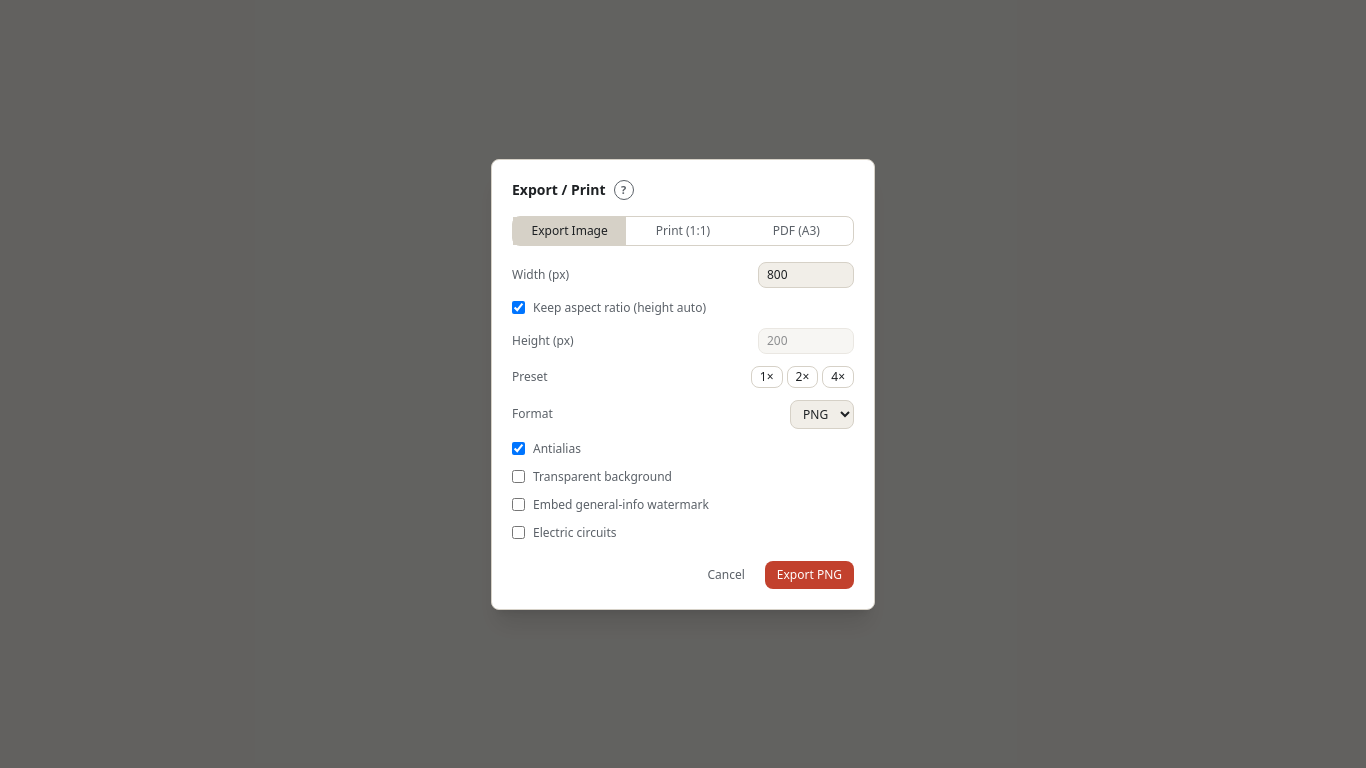
Test case: ExportImageDialog › defaults to 2x the scene with the height tracking the width
The width and height of the screenshot is (1366, 768).
Expected: the number field labelled "Height (px)" is disabled, [758,328,854,354]
Replace the text in the number field labelled "Width (px)" with "1000" at (806, 274), box [758,262,854,288]
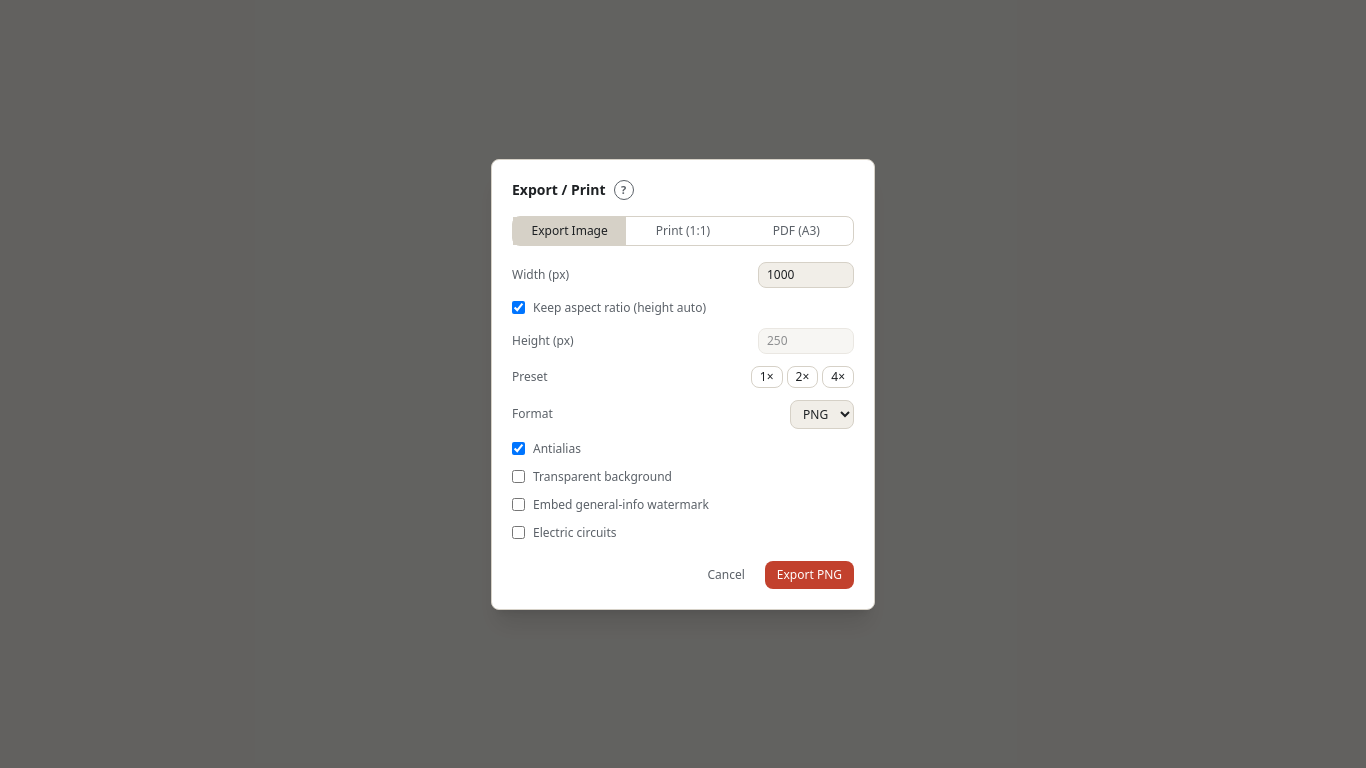
Expected: the number field labelled "Height (px)" holds "250", [758,328,854,354]
Click the button "4×" at (838, 376), box [822,366,854,388]
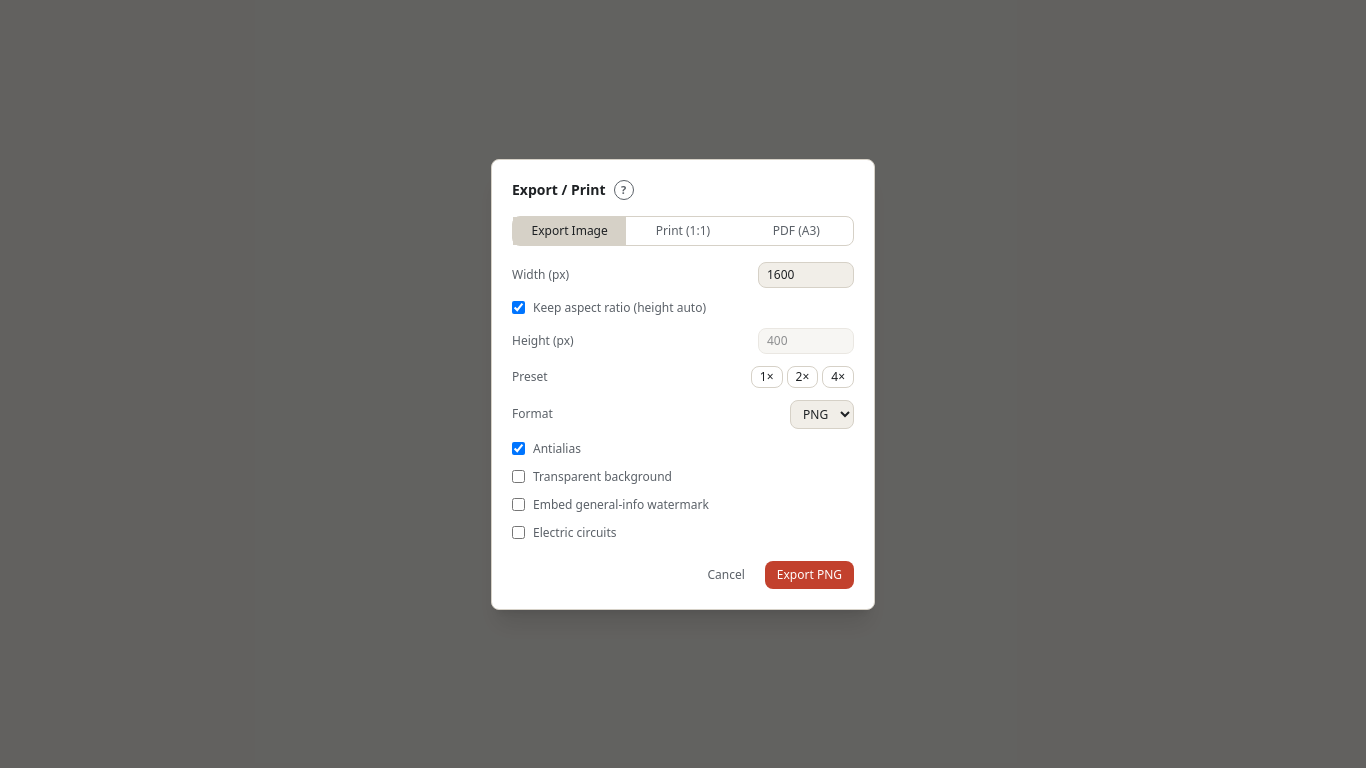
Expected: the number field labelled "Width (px)" holds "1600", [758,262,854,288]
